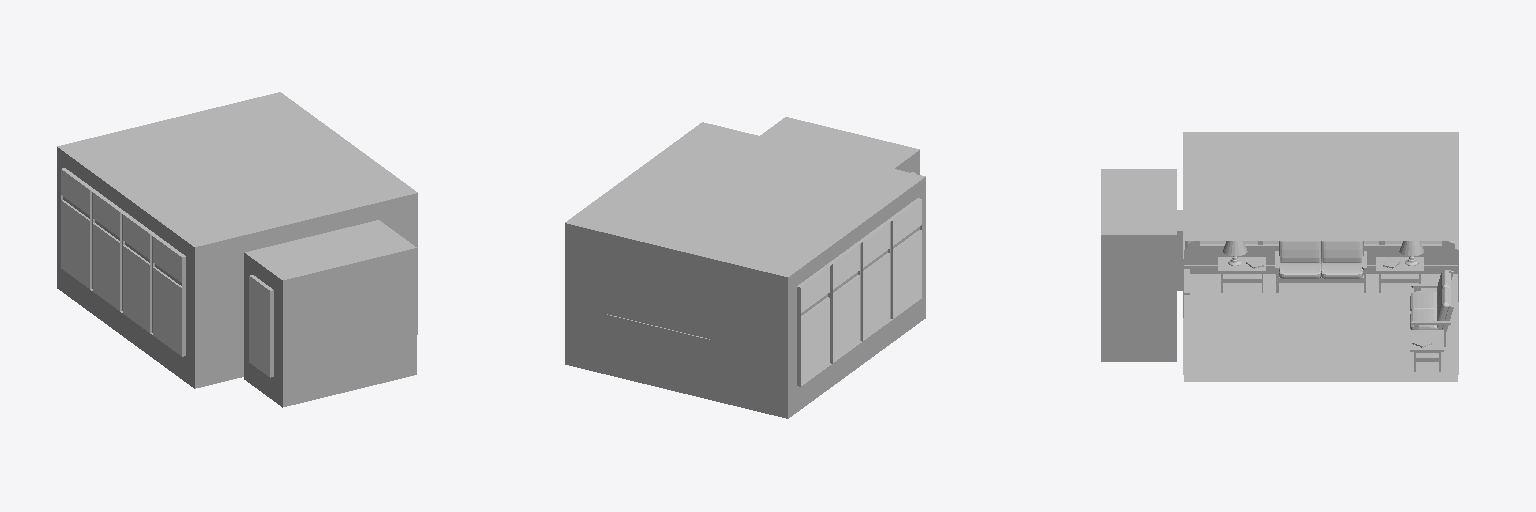
The model's file is room.obj.
3 views of the same model, side by side, from view 1: azimuth 30°, elevation 25°; view 2: azimuth 150°, elevation 25°; view 3: azimuth 270°, elevation 25° (orthographic).
Parts seen in each view (by area): view 1: instance_0_ID62.005, instance_0.018_ID211.005, instance_0.001_ID75.005, instance_0.041_ID395.005, instance_0.031_ID315.005, group_0_ID4.005, group_0.007_ID48.005, group_0.002_ID18.005, group_0.004_ID30.005, group_0.001_ID12.005, instance_0.047_ID443.005, group_0.003_ID24.005 (+3 smaller); view 2: instance_0_ID62.005, instance_0.040_ID387.005, instance_0.041_ID395.005, instance_0.033_ID331.005, instance_0.018_ID211.005, group_0_ID4.005, group_0.007_ID48.005, group_0.002_ID18.005, group_0.004_ID30.005, instance_0.047_ID443.005, group_0.003_ID24.005, group_0.008_ID54.005 (+2 smaller); view 3: instance_0_ID62.005, instance_0.078_ID691.005, instance_0.018_ID211.005, instance_0.041_ID395.005, instance_0.003_ID91.005, instance_0.004_ID99.005, instance_0.072_ID643.005, instance_0.002_ID83.005, instance_0.005_ID107.005, instance_0.085_ID747.005, instance_0.054_ID499.005, instance_0.079_ID699.005 (+3 smaller).
Part boxes in pixels (x1,y1,x2,y2): instance_0_ID62.005: (57, 92, 417, 246); instance_0.018_ID211.005: (245, 220, 416, 406); instance_0.001_ID75.005: (195, 193, 417, 388); instance_0.041_ID395.005: (57, 147, 194, 388); instance_0.031_ID315.005: (244, 253, 282, 407); group_0_ID4.005: (153, 268, 181, 355); group_0.007_ID48.005: (61, 200, 89, 288); group_0.002_ID18.005: (93, 224, 119, 310); group_0.004_ID30.005: (123, 246, 149, 332); group_0.001_ID12.005: (249, 276, 269, 376); instance_0.047_ID443.005: (61, 168, 185, 356); group_0.003_ID24.005: (153, 237, 181, 282); instance_0_ID62.005: (565, 122, 925, 276); instance_0.040_ID387.005: (565, 223, 787, 418); instance_0.041_ID395.005: (788, 177, 925, 418); instance_0.033_ID331.005: (607, 254, 709, 338); instance_0.018_ID211.005: (760, 117, 919, 168); group_0_ID4.005: (893, 230, 921, 318); group_0.007_ID48.005: (801, 298, 829, 385); group_0.002_ID18.005: (833, 276, 859, 362); group_0.004_ID30.005: (863, 254, 889, 340); instance_0.047_ID443.005: (797, 198, 921, 386); group_0.003_ID24.005: (893, 199, 921, 245); group_0.008_ID54.005: (801, 267, 829, 312); instance_0_ID62.005: (1183, 132, 1458, 240); instance_0.078_ID691.005: (1184, 274, 1457, 381); instance_0.018_ID211.005: (1101, 169, 1176, 361); instance_0.041_ID395.005: (1184, 241, 1457, 264); instance_0.003_ID91.005: (1321, 241, 1363, 278); instance_0.004_ID99.005: (1279, 241, 1320, 278); instance_0.072_ID643.005: (1183, 265, 1458, 374); instance_0.002_ID83.005: (1410, 287, 1448, 329); instance_0.005_ID107.005: (1410, 270, 1448, 310); instance_0.085_ID747.005: (1275, 251, 1366, 292); instance_0.054_ID499.005: (1177, 210, 1189, 294); instance_0.079_ID699.005: (1410, 330, 1443, 351).
Size of the model in its own units: 182 by 108 by 248.